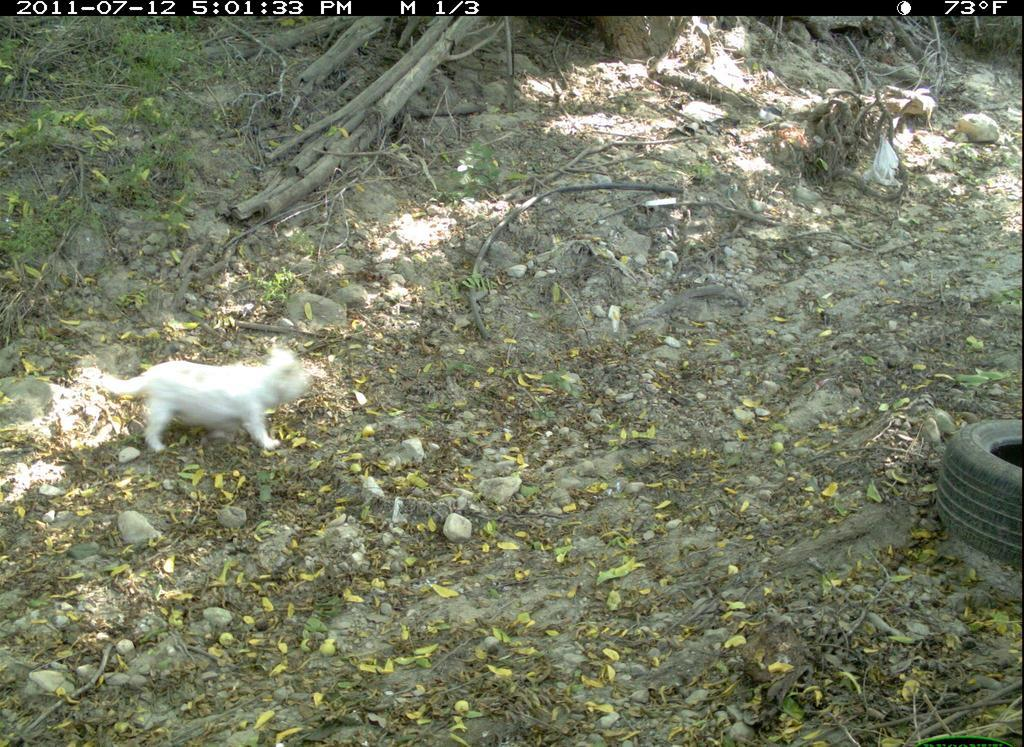dog: (81, 338, 344, 468)
